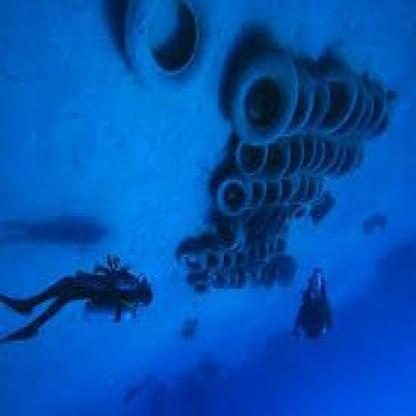tire: (139, 3, 207, 112), (232, 34, 294, 150), (318, 62, 362, 144), (269, 125, 301, 193), (230, 144, 269, 186), (216, 216, 254, 259), (218, 173, 248, 223)
